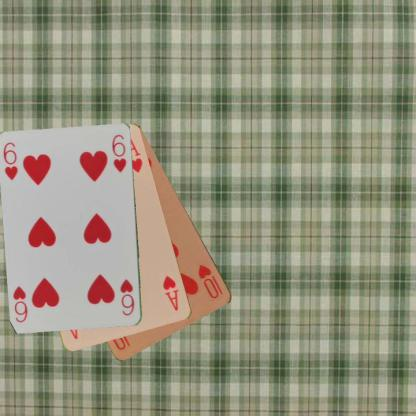10h: (195, 262, 225, 300)
6h: (117, 276, 136, 317), (1, 140, 20, 181)
Ah: (160, 273, 180, 312)
